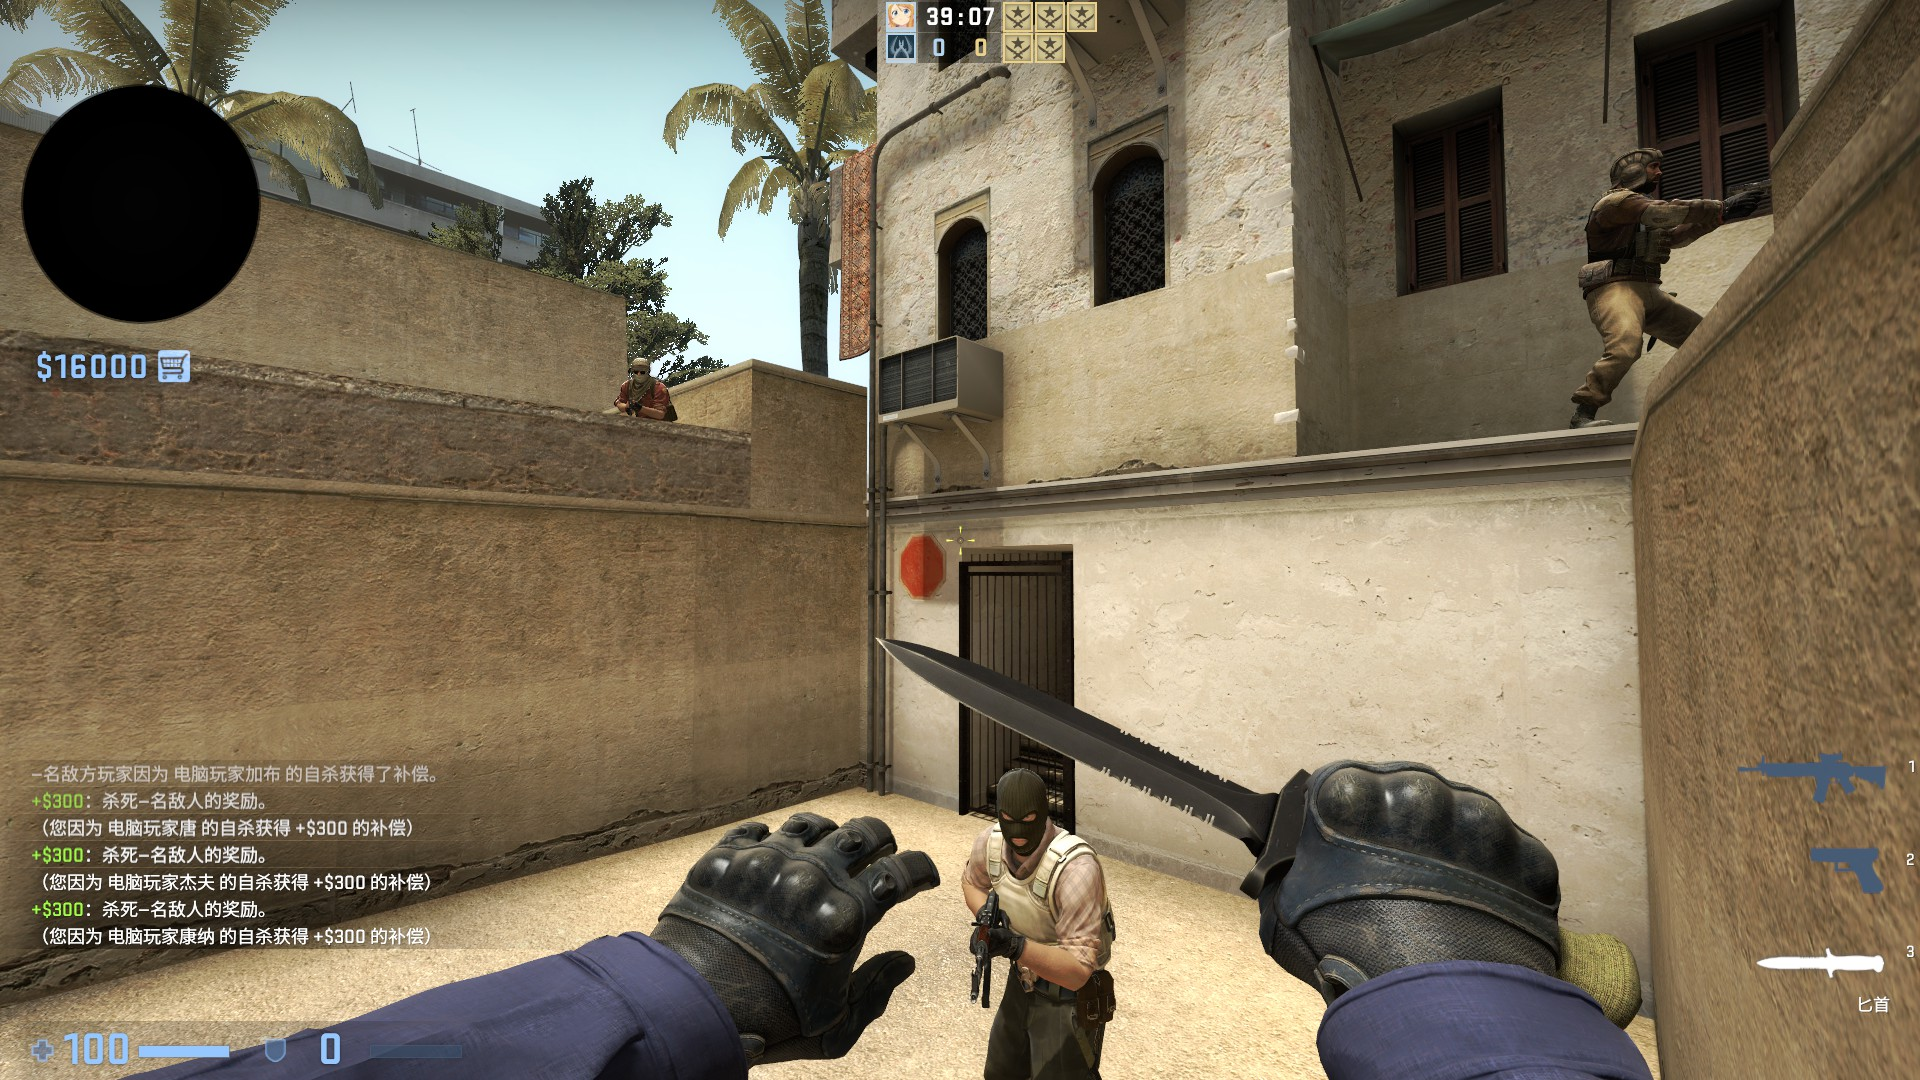head: (992, 763, 1051, 858), (1605, 147, 1670, 193), (626, 353, 652, 384)
